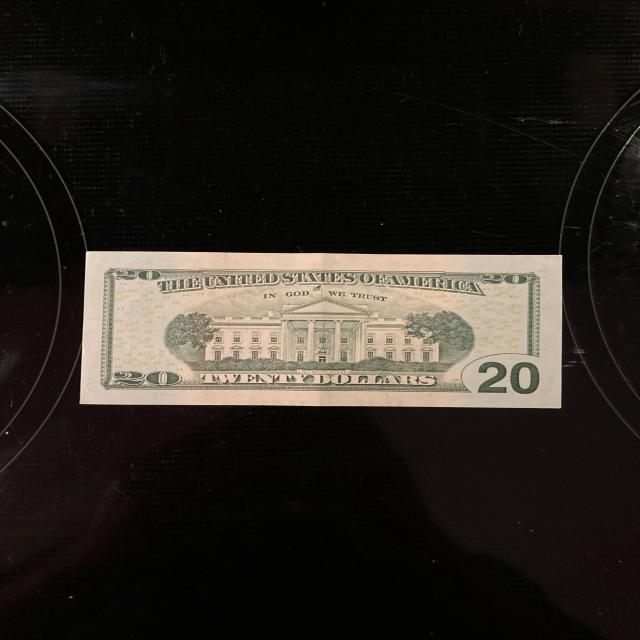twenty: (79, 252, 564, 409)
